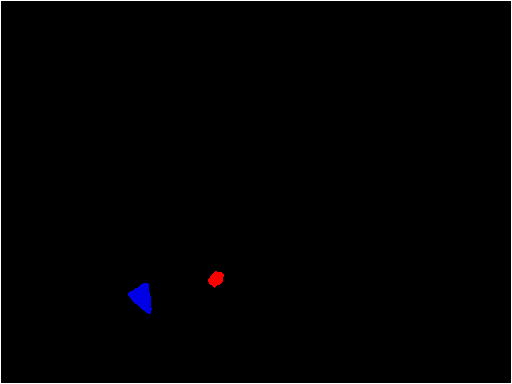chipped: (130, 286, 153, 313)
detached: (209, 269, 224, 283)
